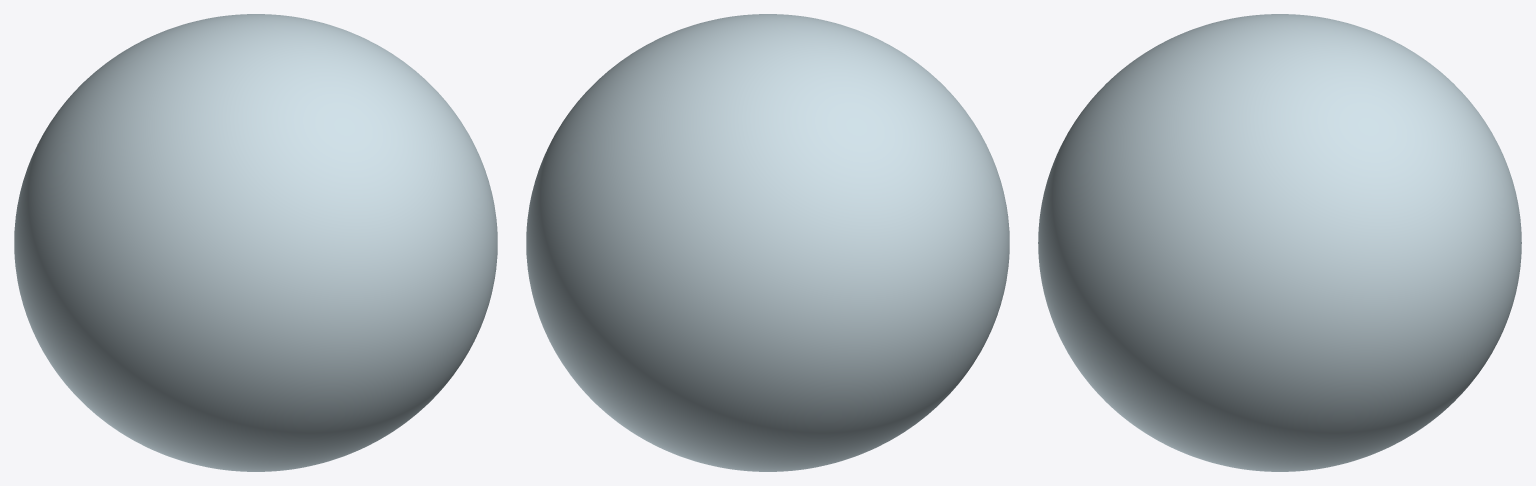
The model's file is jupiter.glb.
3 views of the same model, side by side, from view 1: azimuth 30°, elevation 25°; view 2: azimuth 150°, elevation 25°; view 3: azimuth 270°, elevation 25° (orthographic).
Visible parts, largest first — view 1: Jupiter_AtmosphericLimb; view 2: Jupiter_AtmosphericLimb; view 3: Jupiter_AtmosphericLimb.
Part boxes in pixels (x1,y1,x2,y2): Jupiter_AtmosphericLimb: (14, 14, 497, 471); Jupiter_AtmosphericLimb: (526, 14, 1009, 471); Jupiter_AtmosphericLimb: (1038, 14, 1521, 471).
Size of the model in its own units: 1.01 by 0.9417 by 1.01.
